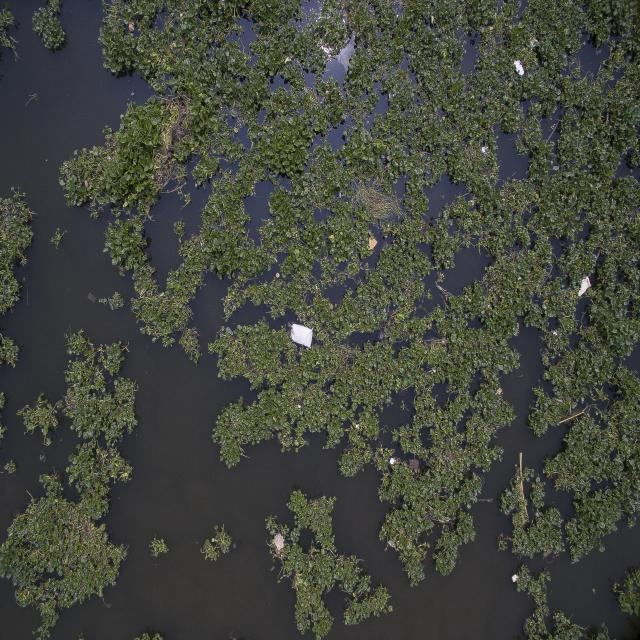plastic: (282, 322, 324, 357), (572, 270, 595, 304), (267, 530, 290, 562), (510, 51, 530, 80), (477, 142, 497, 163), (508, 567, 522, 585), (388, 454, 398, 470)
